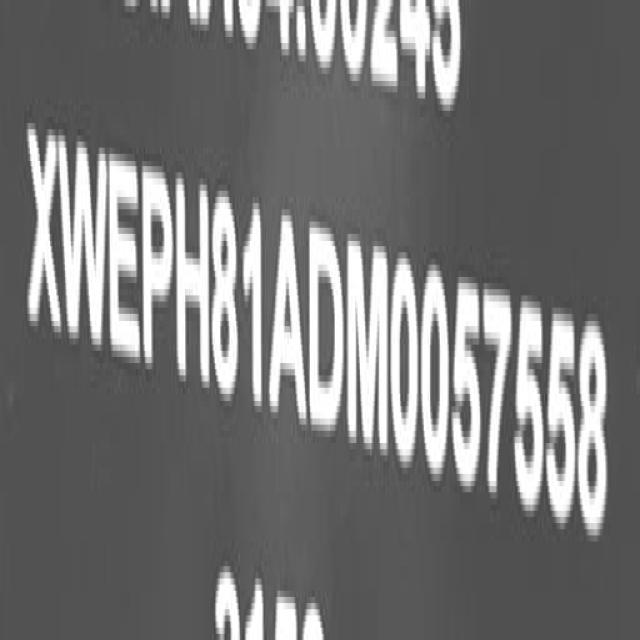0: (421, 260, 452, 488), (389, 253, 420, 479)
1: (241, 191, 264, 408)
5: (513, 283, 546, 524), (450, 269, 483, 495), (545, 310, 577, 536)
7: (482, 281, 514, 508)
8: (209, 189, 241, 408), (578, 319, 609, 543)
A: (269, 205, 306, 424)
D: (306, 212, 344, 444)
E: (104, 134, 143, 370)
H: (172, 175, 210, 388)
M: (346, 223, 390, 468)
P: (142, 146, 173, 371)
W: (58, 118, 106, 346)
X: (27, 116, 62, 342)
